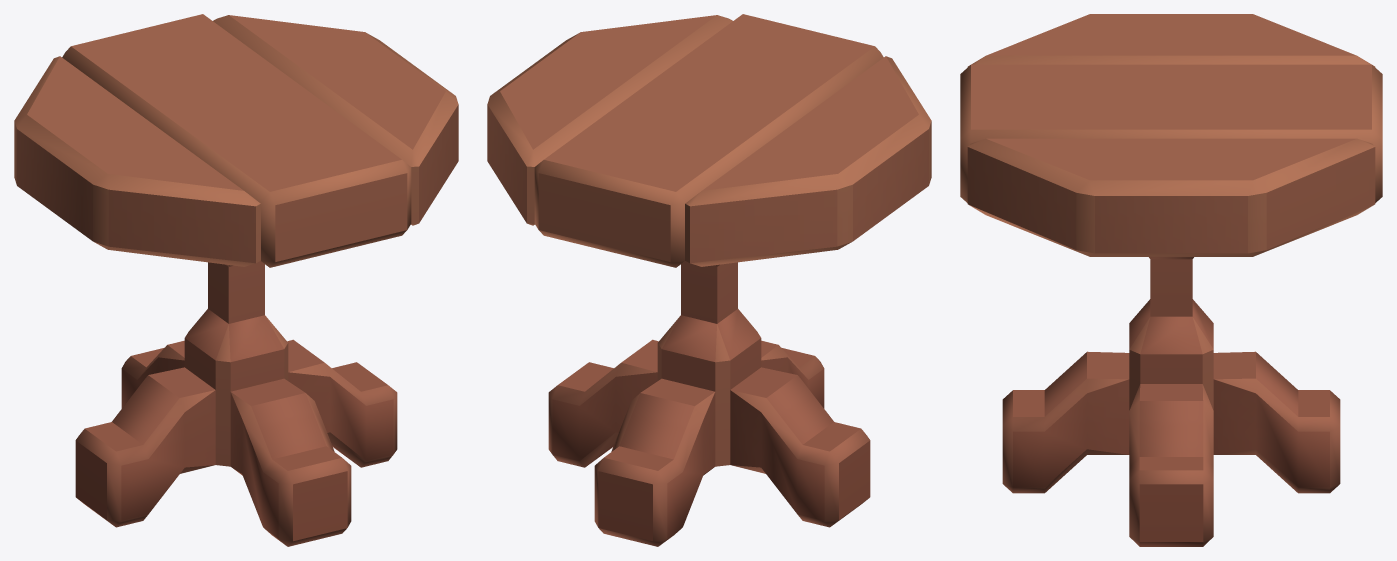
File: table_round_small.glb
3 views of the same model, side by side, from view 1: azimuth 30°, elevation 25°; view 2: azimuth 150°, elevation 25°; view 3: azimuth 270°, elevation 25° (orthographic).
Parts seen in each view (by area): view 1: table_round_small; view 2: table_round_small; view 3: table_round_small.
Part boxes in pixels (left/top/right/bottom): table_round_small: left=14, top=14, right=458, bottom=546; table_round_small: left=487, top=14, right=931, bottom=546; table_round_small: left=960, top=14, right=1382, bottom=546.
Bounding box in the file's own units: 1 × 1 × 1.
Materials: 1 (1 with a texture image).
